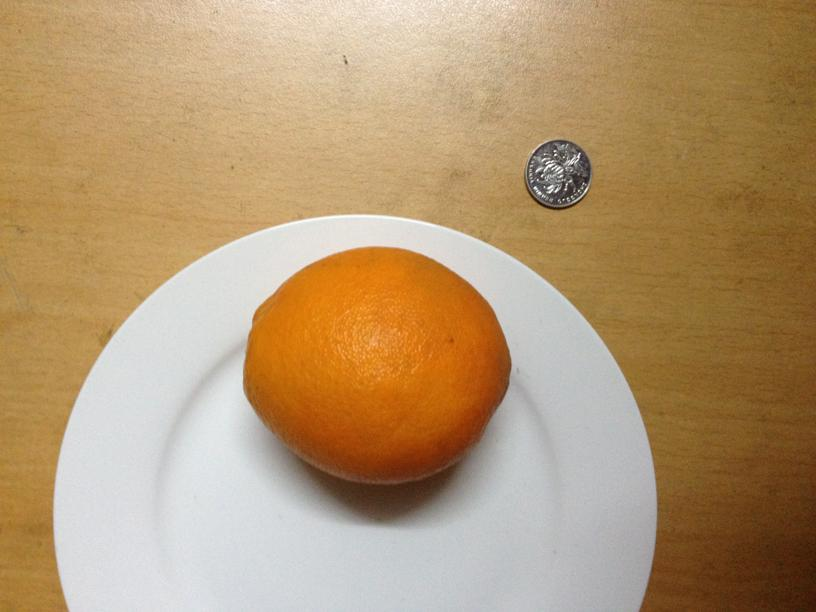coin: (524, 138, 595, 207)
orange: (242, 240, 512, 482)
